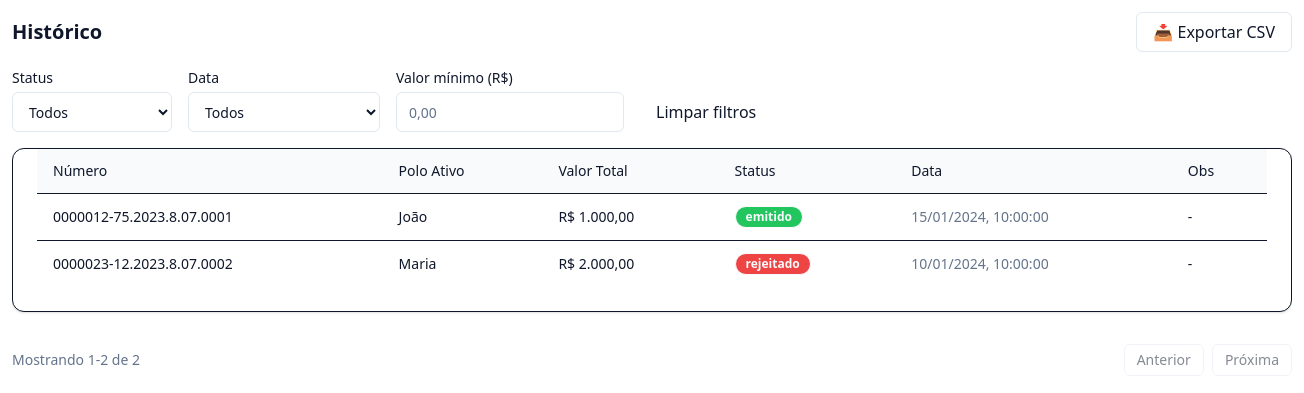
it: Historico › filtra por status
This screenshot has width=1304, height=393.
Expected: the text "0000012-75.2023.8.07.0001" is shown, [37,194,383,240]
Select "Rejeitado" in the dropdown labelled "Status" at point(92, 112), box [12,92,172,132]
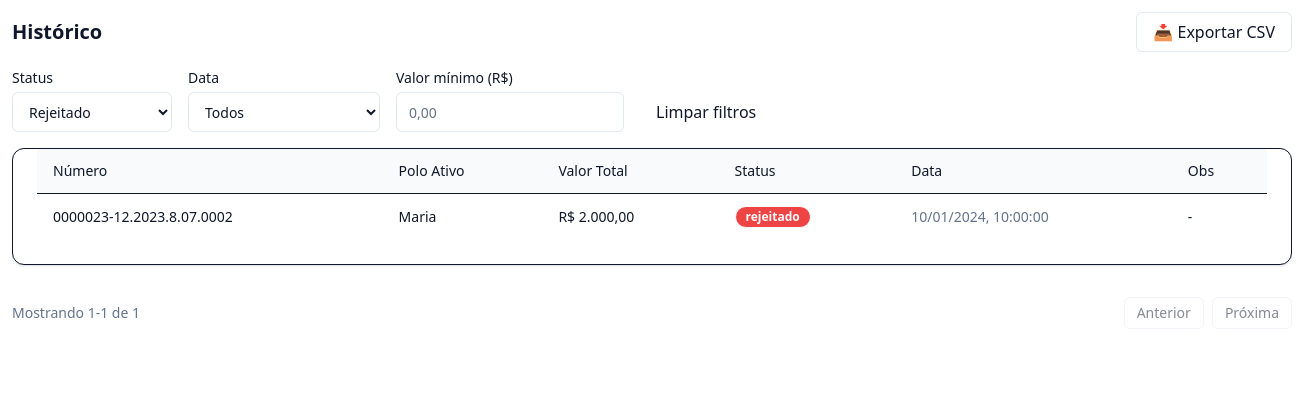
Expected: the text "0000023-12.2023.8.07.0002" is shown, [37,194,383,240]
Expected: the text "0000012-75.2023.8.07.0001" is gone
